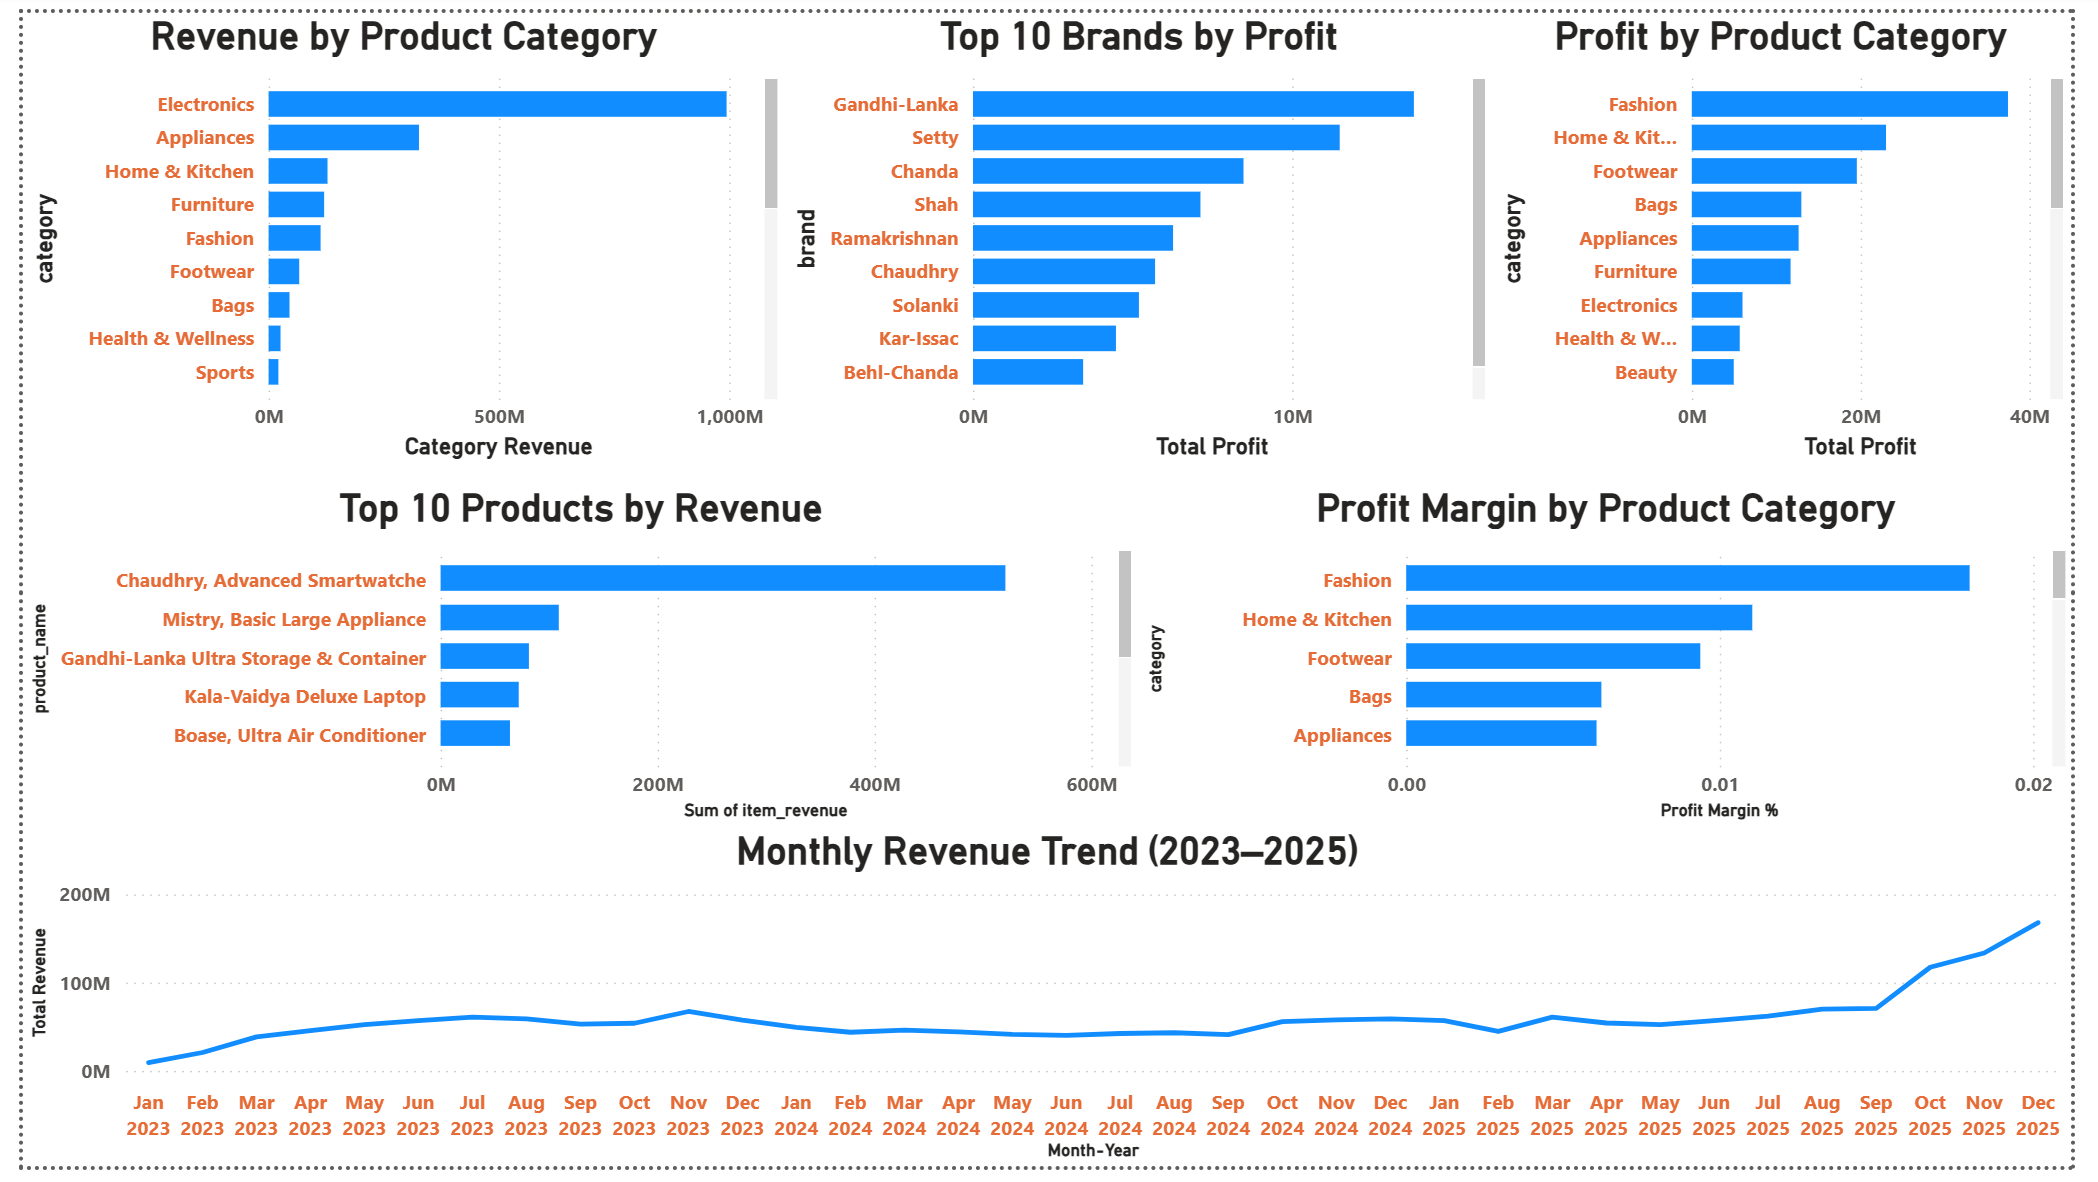

The dashboard page shown, as its layout file describes it:
{"tool":"powerbi","page":{"name":"Product & Sales Analysis","canvas":[1280,720],"ordinal":2},"visuals":[{"type":"clusteredBarChart","title":"Revenue by Product Category","fields":{"Category":["products.category"],"Y":["order items.Category Revenue"]},"box":[0,0,476.4,283.9],"z":0},{"type":"clusteredBarChart","title":"Profit by Product Category","fields":{"Category":["products.category"],"Y":["order items.Total Profit"]},"box":[917.5,0,362.5,283.9],"z":1000},{"type":"clusteredBarChart","title":"Top 10 Products by Revenue","fields":{"Category":["products.product_name"],"Y":["Sum(order items.item_revenue)"]},"box":[0,295.1,697.7,213.3],"z":2000},{"type":"clusteredBarChart","title":"Profit Margin by Product Category","fields":{"Category":["products.category"],"Y":["order items.Profit Margin %"]},"box":[697.7,295.1,583.9,213.3],"z":3000},{"type":"clusteredBarChart","title":"Top 10 Brands by Profit","fields":{"Category":["products.brand"],"Y":["order items.Total Profit"]},"box":[476.4,0,442.7,283.9],"z":4000},{"type":"lineChart","title":"Monthly Revenue Trend (2023–2025)","fields":{"Y":["orders.Total Revenue"],"Category":["orders.Month-Year"]},"box":[0,508.5,1280,211.7],"z":5000}]}

Visuals, with their boxes in screenshot pixels (x1, y1, x2, y2), scaled from the page's 1280x720 canvas onto the 2098x1182 screenshot:
"Revenue by Product Category" clusteredBarChart: x1=0, y1=0, x2=781, y2=466
"Profit by Product Category" clusteredBarChart: x1=1504, y1=0, x2=2097, y2=466
"Top 10 Products by Revenue" clusteredBarChart: x1=0, y1=484, x2=1144, y2=835
"Profit Margin by Product Category" clusteredBarChart: x1=1144, y1=484, x2=2097, y2=835
"Top 10 Brands by Profit" clusteredBarChart: x1=781, y1=0, x2=1506, y2=466
"Monthly Revenue Trend (2023–2025)" lineChart: x1=0, y1=835, x2=2097, y2=1181
